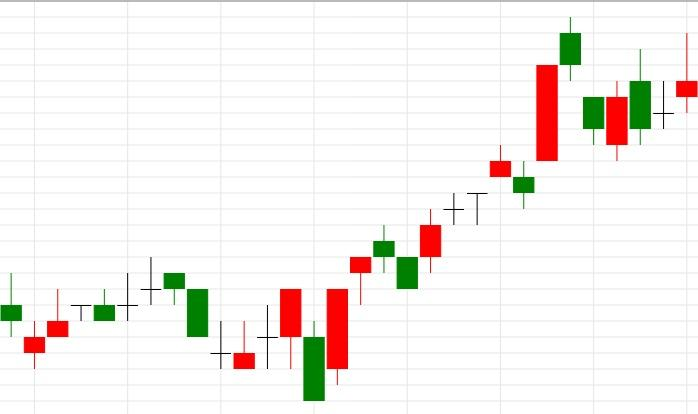inverse_hammer_rise: (140, 256, 256, 370)
